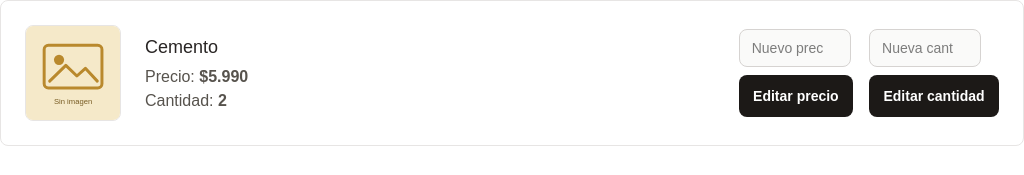
Test: tarjetas de gestión › UT-09: muestra un error al fallar la actualización y oculta acciones opcionales
Click the button "Editar precio" at (796, 96), box [739,75,853,117]
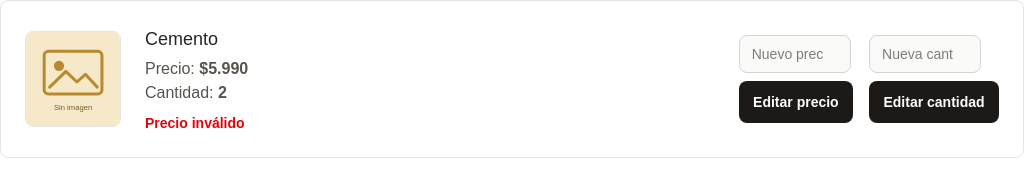
Check: the text "Precio inválido" is shown, box [145,115,245,131]
